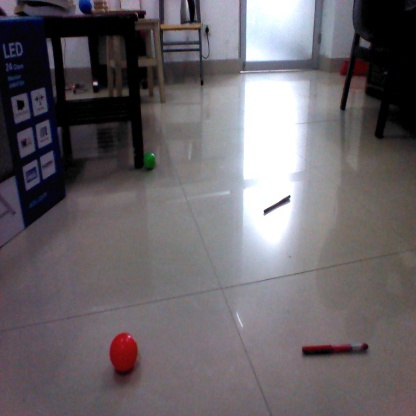ball: (108, 334, 143, 375), (143, 152, 157, 171)
pen: (298, 342, 370, 355), (265, 195, 291, 212)
